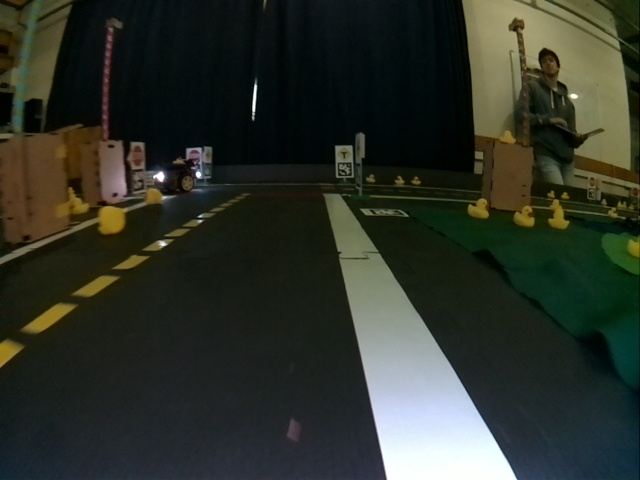Duckie: (99, 206, 124, 232), (468, 199, 489, 218), (514, 206, 533, 227), (146, 190, 163, 206), (551, 211, 567, 227), (71, 198, 87, 213), (411, 176, 421, 185), (549, 200, 558, 209), (395, 176, 404, 185), (367, 176, 375, 182)
Duckiebot: (146, 162, 199, 191)
Intersection sign: (338, 147, 351, 161)
QR code: (360, 207, 407, 217), (133, 170, 143, 190), (338, 164, 352, 176), (206, 165, 212, 177)
Stop sign: (132, 145, 144, 168), (188, 150, 201, 164)
